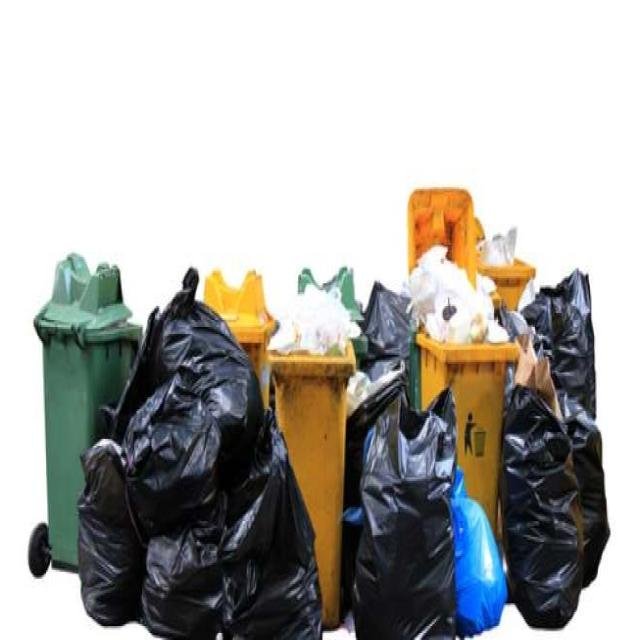c: (65, 274, 324, 640), (264, 275, 355, 362)
sampah-detection: (499, 262, 610, 633), (352, 379, 460, 640), (404, 243, 505, 352), (442, 472, 509, 628)
